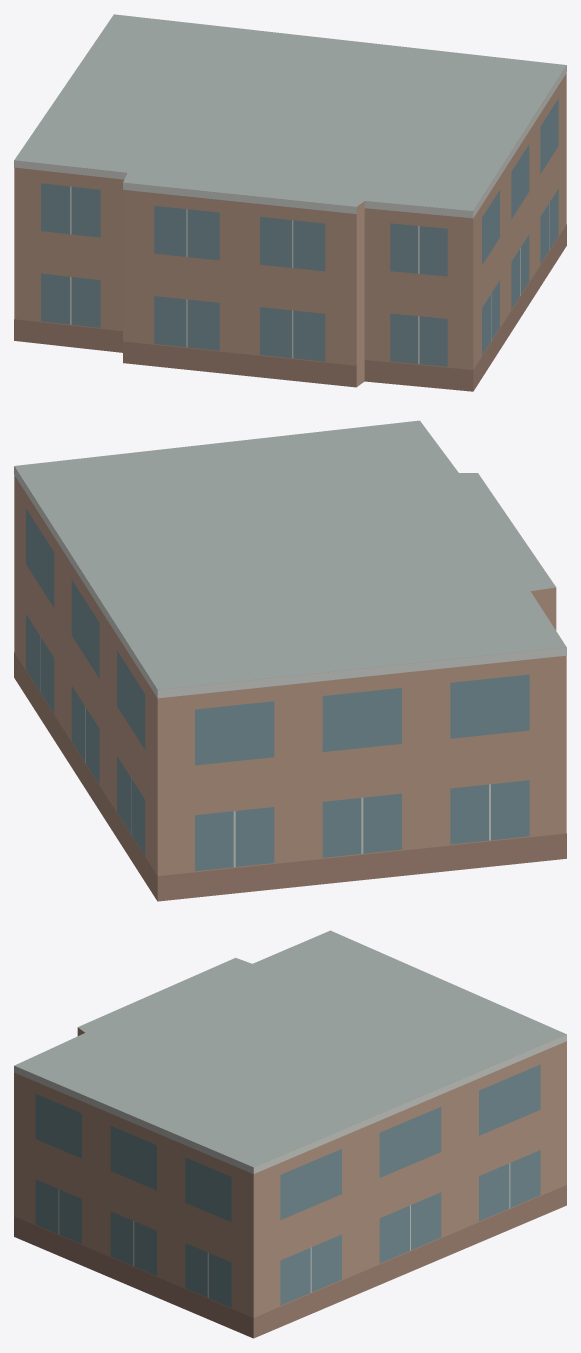
File: survey-upis-32730082.glb
3 views of the same model, one above another, from view 1: azimuth 30°, elevation 25°; view 2: azimuth 150°, elevation 25°; view 3: azimuth 270°, elevation 25° (orthographic). The views are drawn at different scales.
Parts seen in each view (by area): view 1: survey-upis-32730082.tmp; view 2: survey-upis-32730082.tmp; view 3: survey-upis-32730082.tmp.
Part boxes in pixels (left/top/right/bottom): survey-upis-32730082.tmp: left=14, top=14, right=566, bottom=391; survey-upis-32730082.tmp: left=14, top=420, right=566, bottom=901; survey-upis-32730082.tmp: left=14, top=930, right=566, bottom=1338.
Size of the model in its own units: 18.12 by 6.1 by 17.87.
